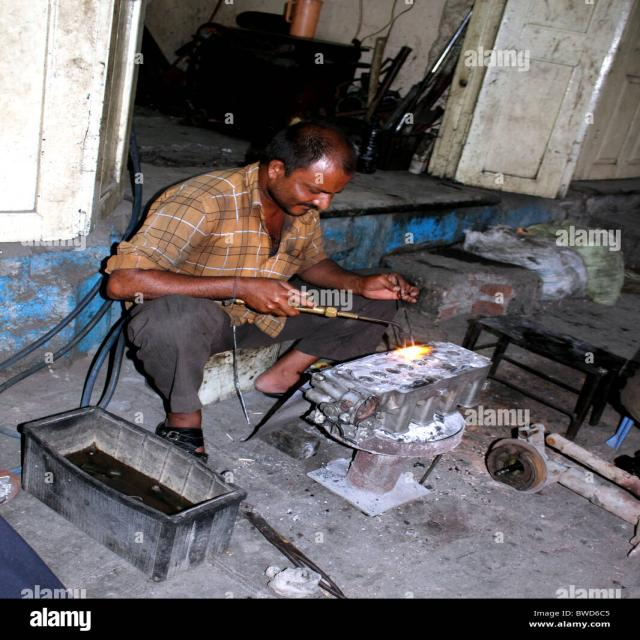without_helmet: (255, 121, 356, 217)
